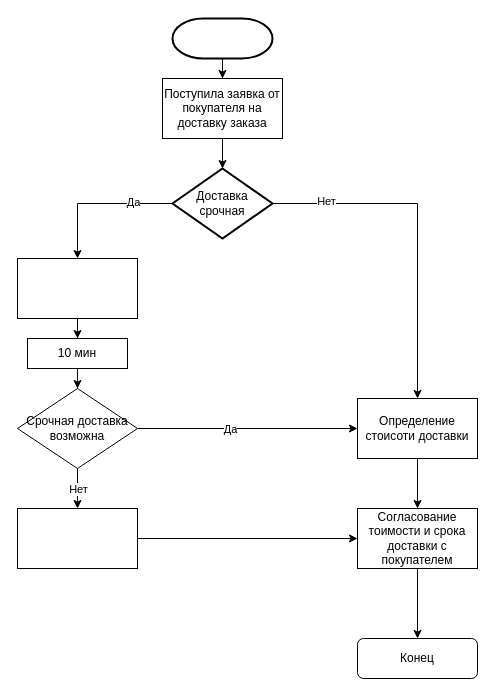
This 495x696 diagram has some shape labels left out. Here are the shapes that lost their labels. From the top down, the box of each, then its label:
(171, 17, 273, 59): Начало
(16, 258, 138, 318): Отправка запроса о возможности срочной доставки в службу доставки
(16, 508, 138, 568): Сообщение покупателю о невозможности срочной доставки
